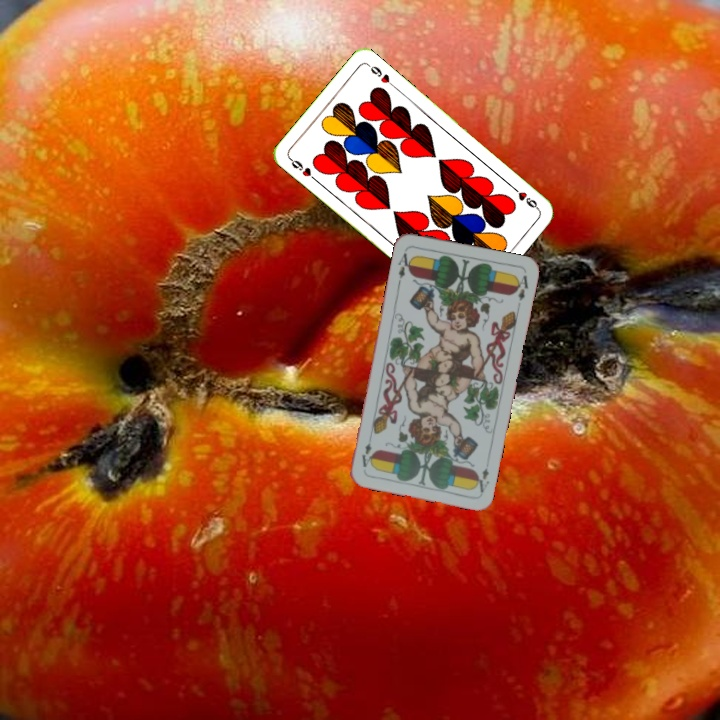EA: (394, 249, 415, 286), (471, 464, 492, 495)
H9: (285, 154, 319, 184), (507, 182, 541, 212)
